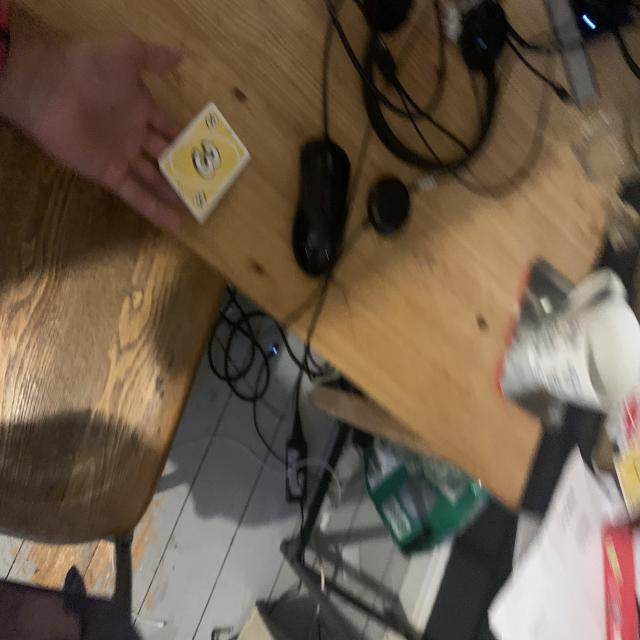lyellow-3: (204, 109, 221, 133)
